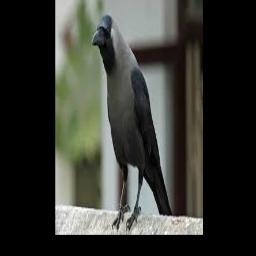Crow: (92, 13, 173, 232)
